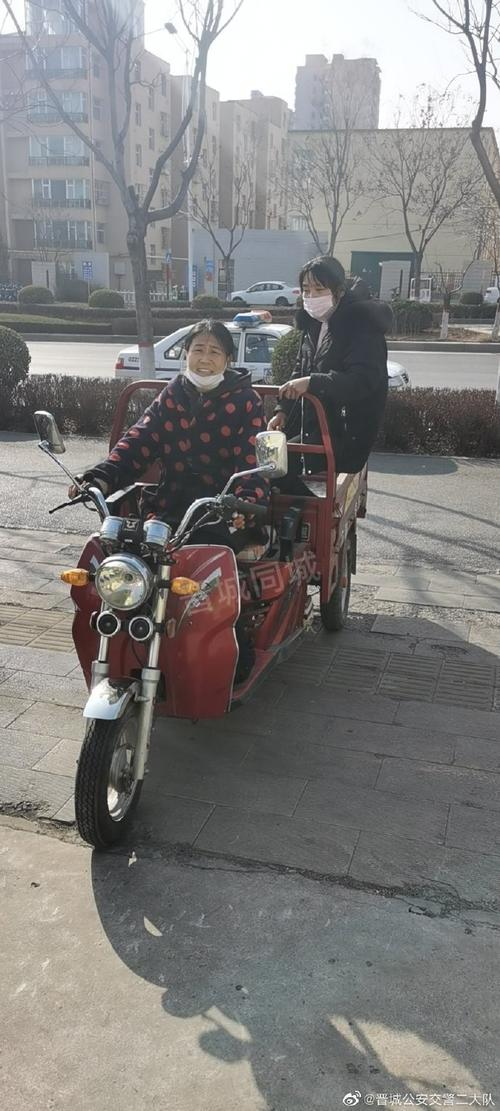driver: (136, 323, 262, 551)
overloading: (52, 230, 405, 835)
passenger: (283, 253, 376, 484)
